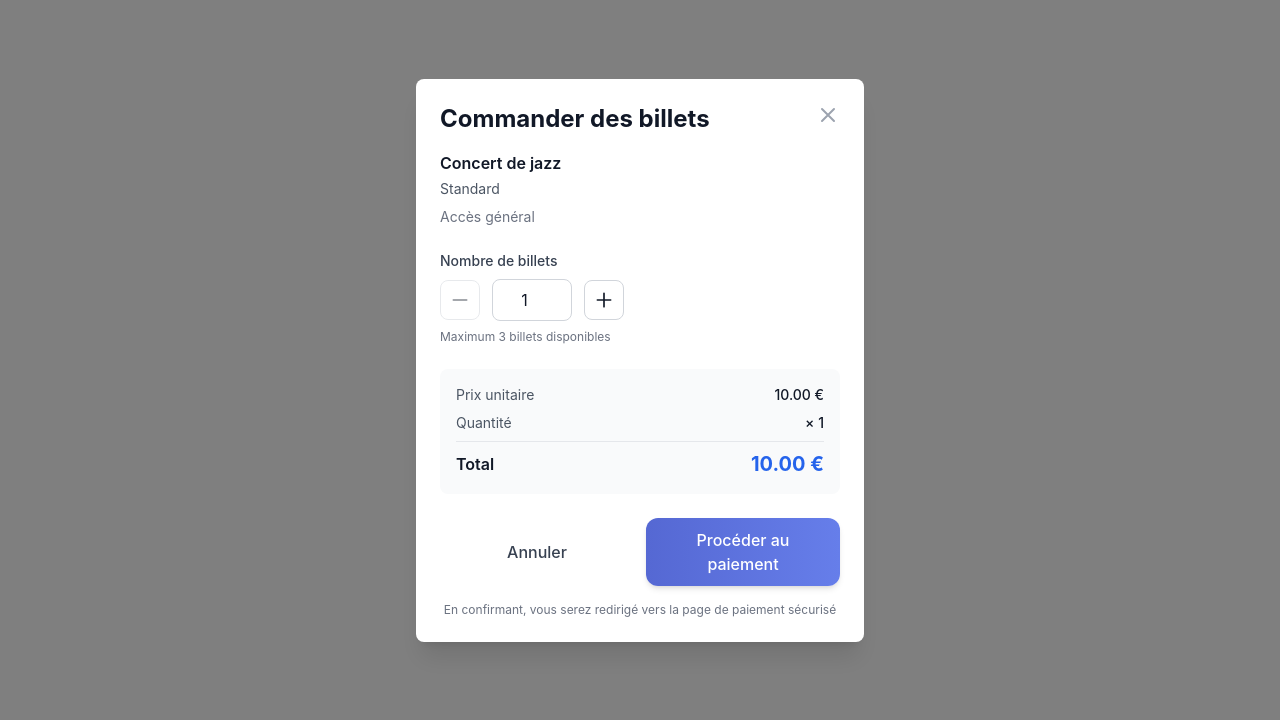
CheckoutModal › updates the total price as quantity changes
Replace the text in the number field named "Quantité de billets" with "3". click: {"x": 532, "y": 300}
box: [492, 278, 572, 320]
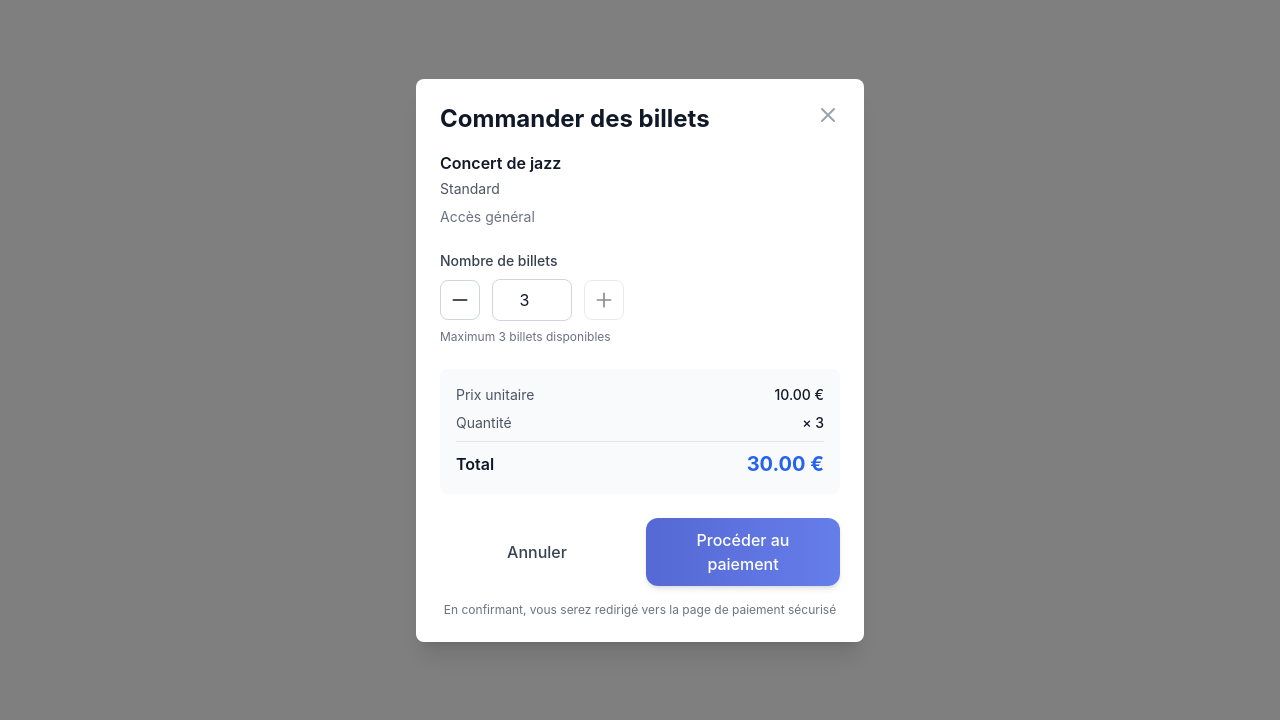
Check: the text "30.00 €" is shown, box [747, 450, 824, 478]
